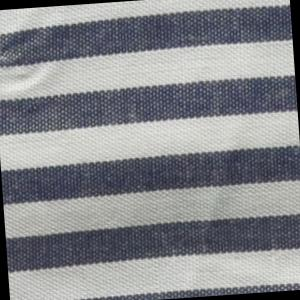Damage: (1, 26, 53, 95)
